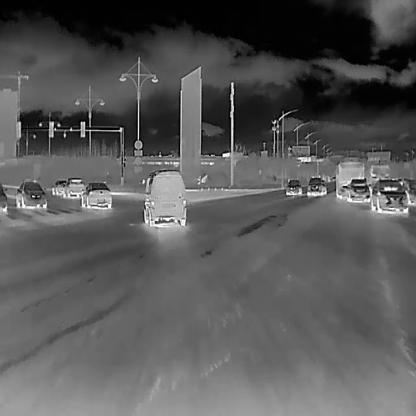bus: (336, 160, 364, 198)
car: (142, 167, 186, 225), (370, 178, 407, 210), (15, 180, 47, 207), (81, 182, 111, 207), (349, 176, 370, 202), (65, 175, 83, 195), (307, 176, 325, 195), (286, 179, 300, 195), (52, 180, 65, 194)
